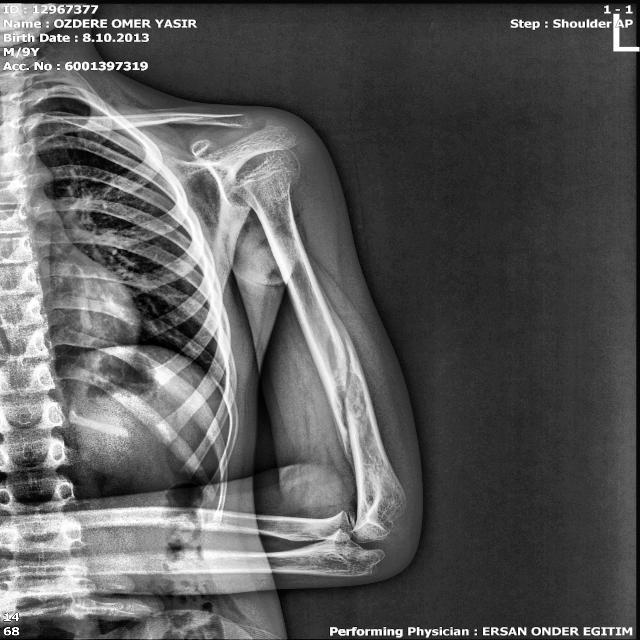Fracture: (315, 310, 375, 446)
